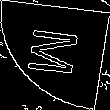M_E: (23, 29, 87, 81)
